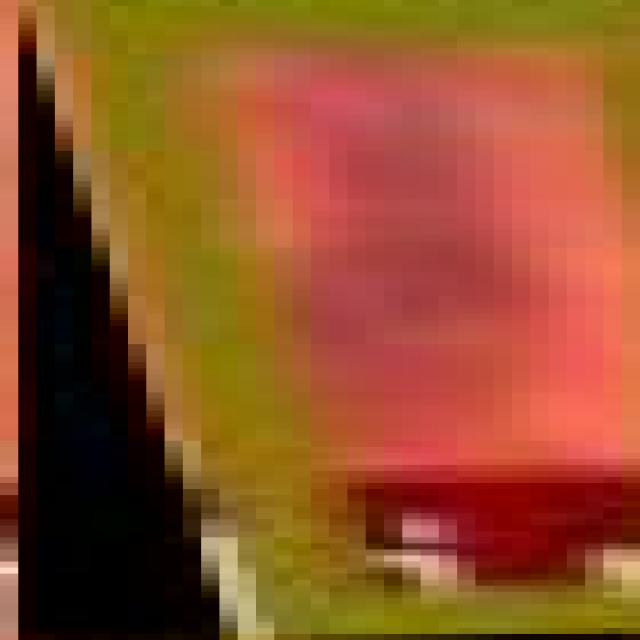smoke: (18, 0, 640, 640)
